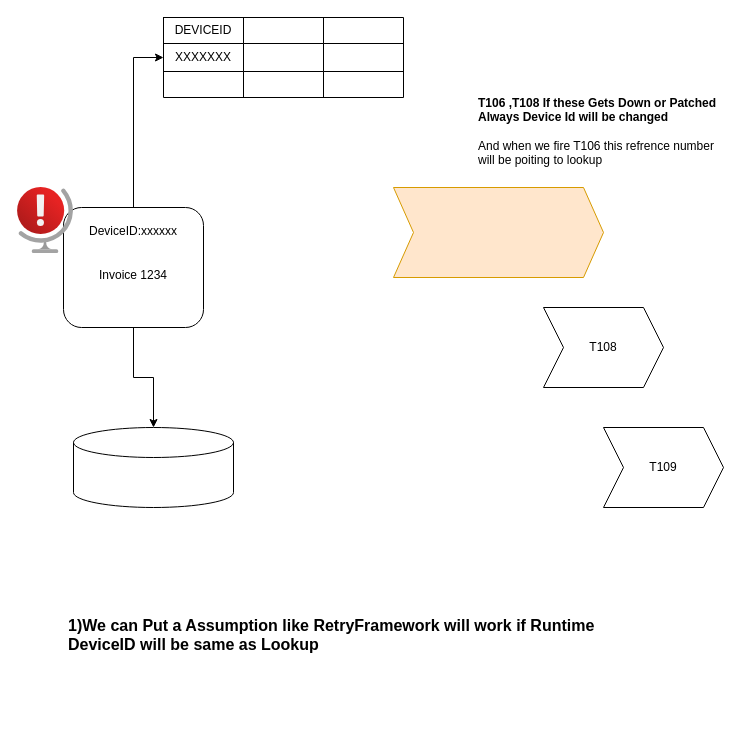
This 741x735 diagram has some shape labels left out. Here are the shapes that lost their labels. From the top down, the box of each, then its label:
(392, 186, 604, 278): DeviceID:xxxxxx T106
(72, 426, 234, 508): 1234:DeviceID:xxxxxx
